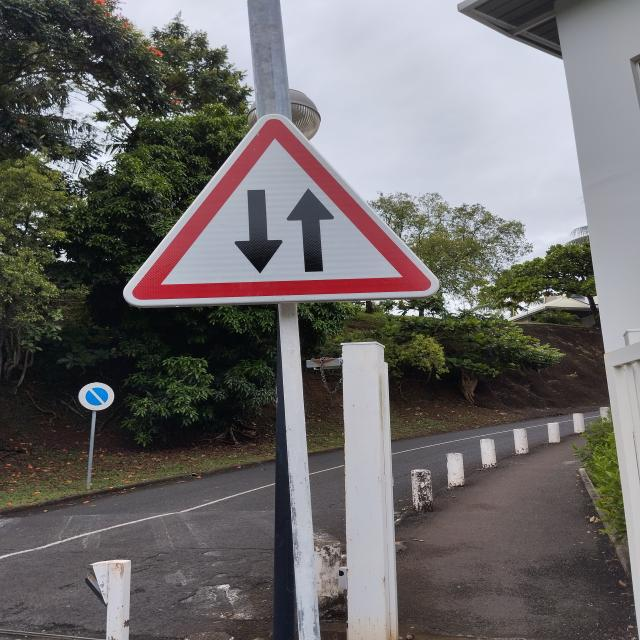Double-Sens: (116, 112, 453, 299)
